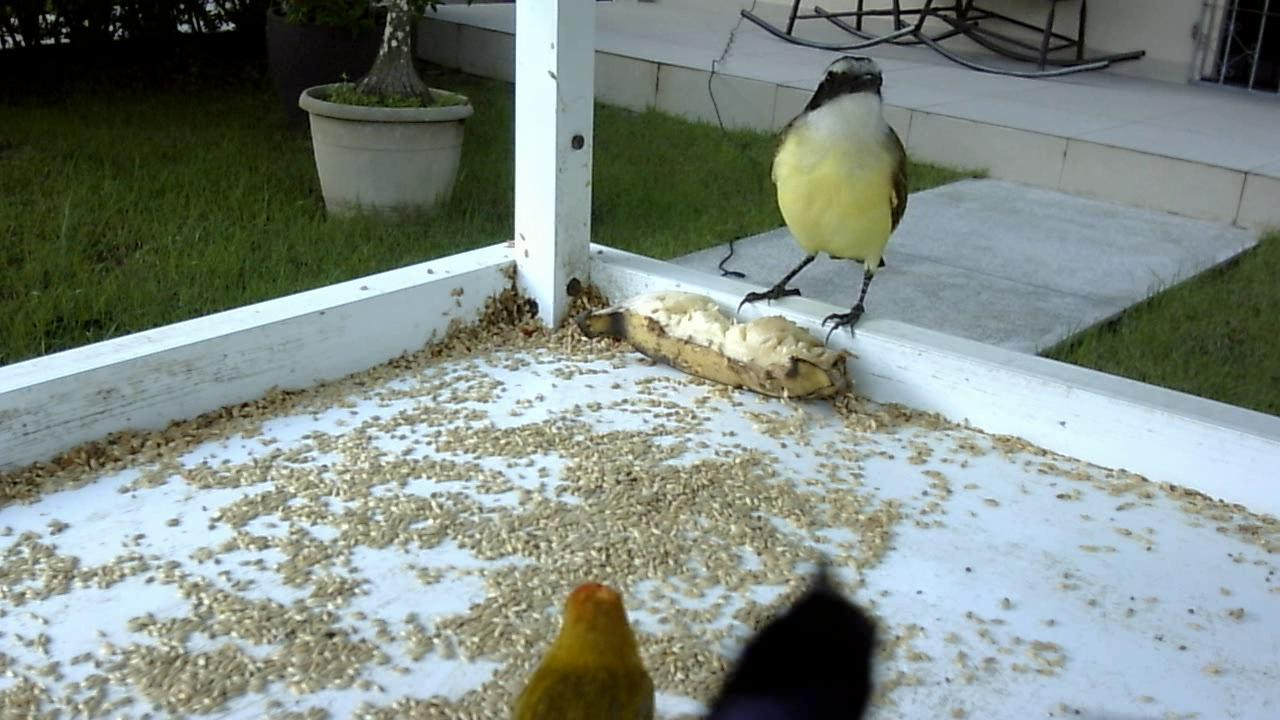bem_te_vi: (703, 36, 926, 360)
canario_do_amazonas: (499, 570, 662, 716)
